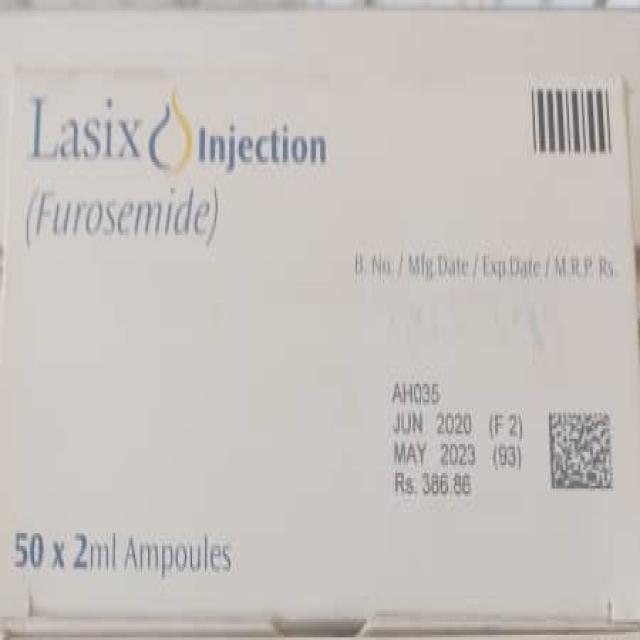drug-name: (20, 95, 144, 163)
